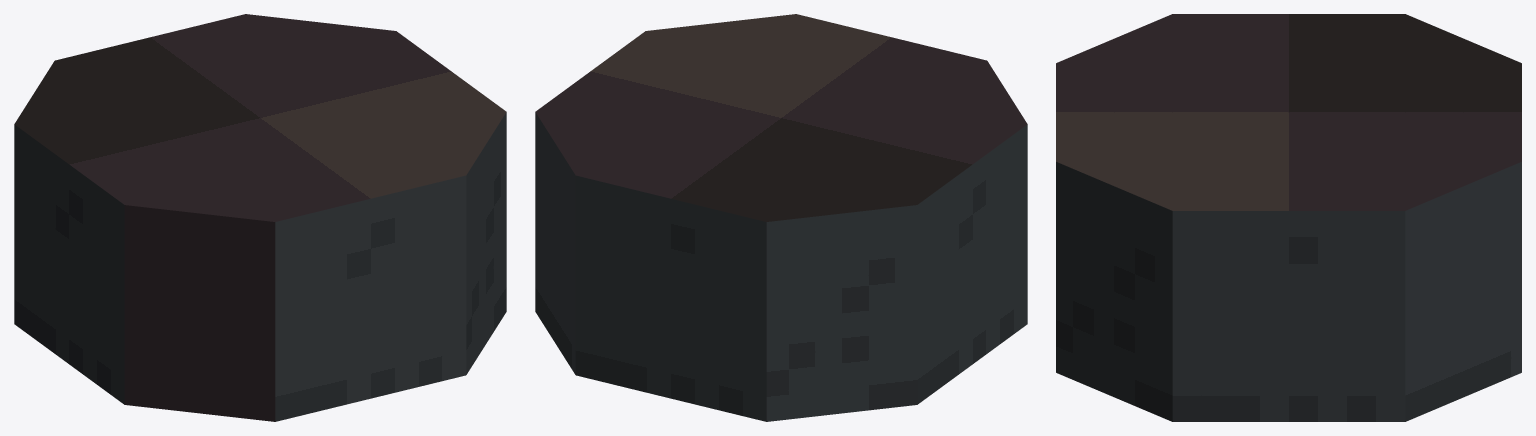
File: Bolt_doubleSize.obj
The picture shows the model from 3 angles, left to right: view 1: azimuth 30°, elevation 25°; view 2: azimuth 150°, elevation 25°; view 3: azimuth 270°, elevation 25°; orthographic projection. The views are drawn at different scales.
Visible parts, largest first — view 1: Bolt_doubleSize; view 2: Bolt_doubleSize; view 3: Bolt_doubleSize.
Boxes of the visible parts, x1,y1,x2,y2 form: Bolt_doubleSize: (14, 14, 506, 421); Bolt_doubleSize: (535, 14, 1027, 421); Bolt_doubleSize: (1056, 14, 1521, 421).
Bounding box in the file's own units: 0.25 × 0.125 × 0.25.
